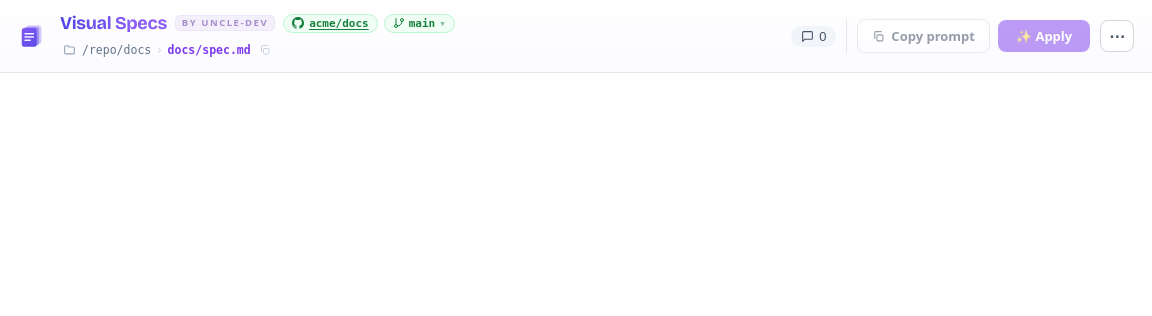
Scenario: a successful change (R-6.7) › displays the context the server returned, not the branch that was picked
Click the button with test id "git-branch-switch": (419,23) x1=384 y1=14 x2=455 y2=32
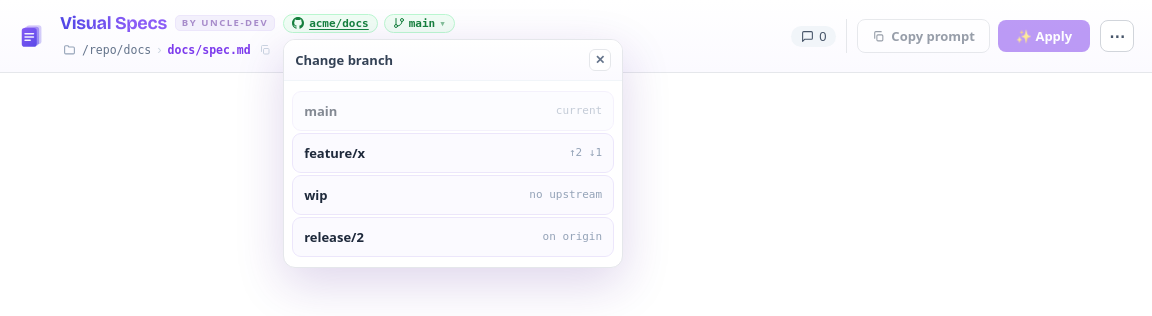
Click the button with test id "git-branch-feature/x": (335,152) x1=292 y1=132 x2=614 y2=172
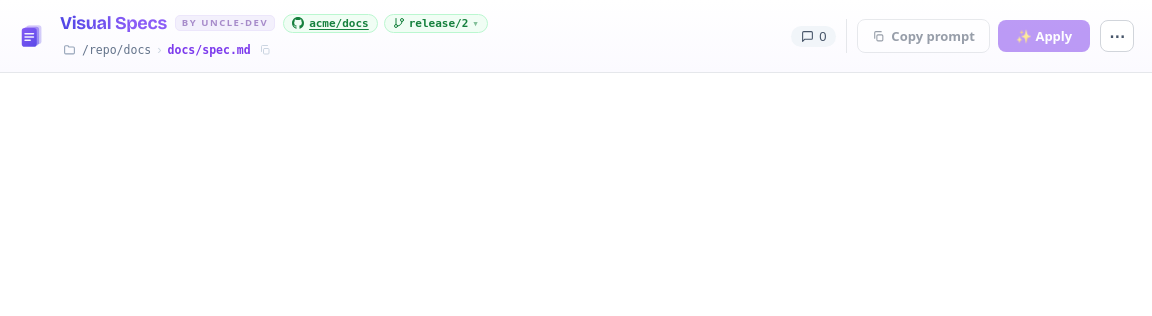
Now the button with test id "git-branch-switch" shows "release/2", box x1=384 y1=14 x2=488 y2=32
